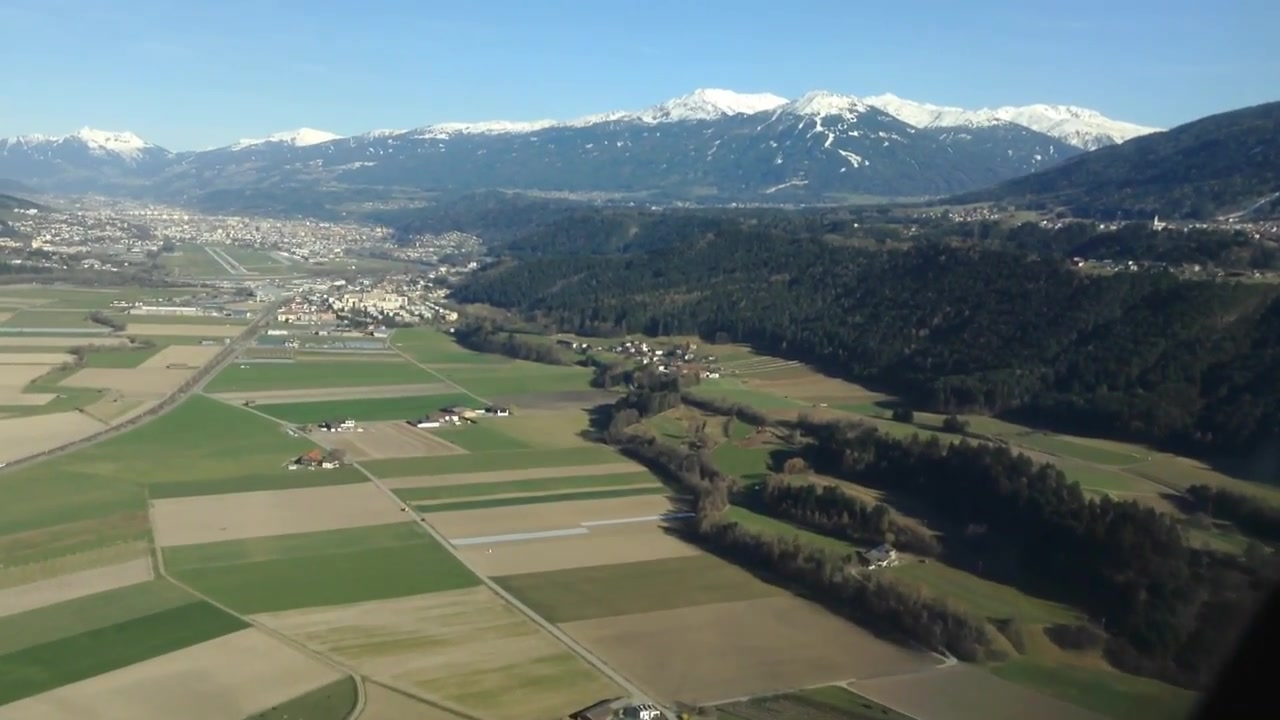runway: (203, 245, 248, 276)
